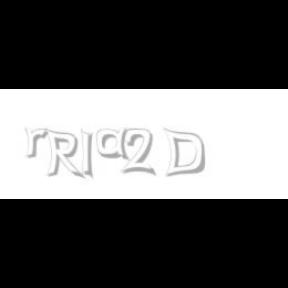2: (120, 128, 154, 176)
D: (162, 128, 206, 178)
I: (82, 128, 94, 180)
R: (44, 128, 82, 180)
a: (97, 128, 134, 160)
r: (24, 128, 52, 158)
